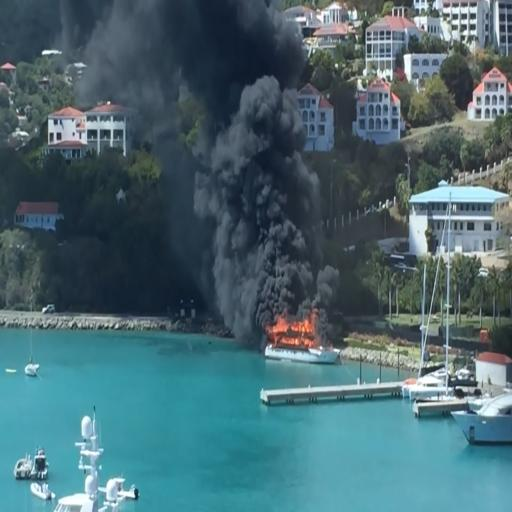smoke: (212, 88, 312, 306)
